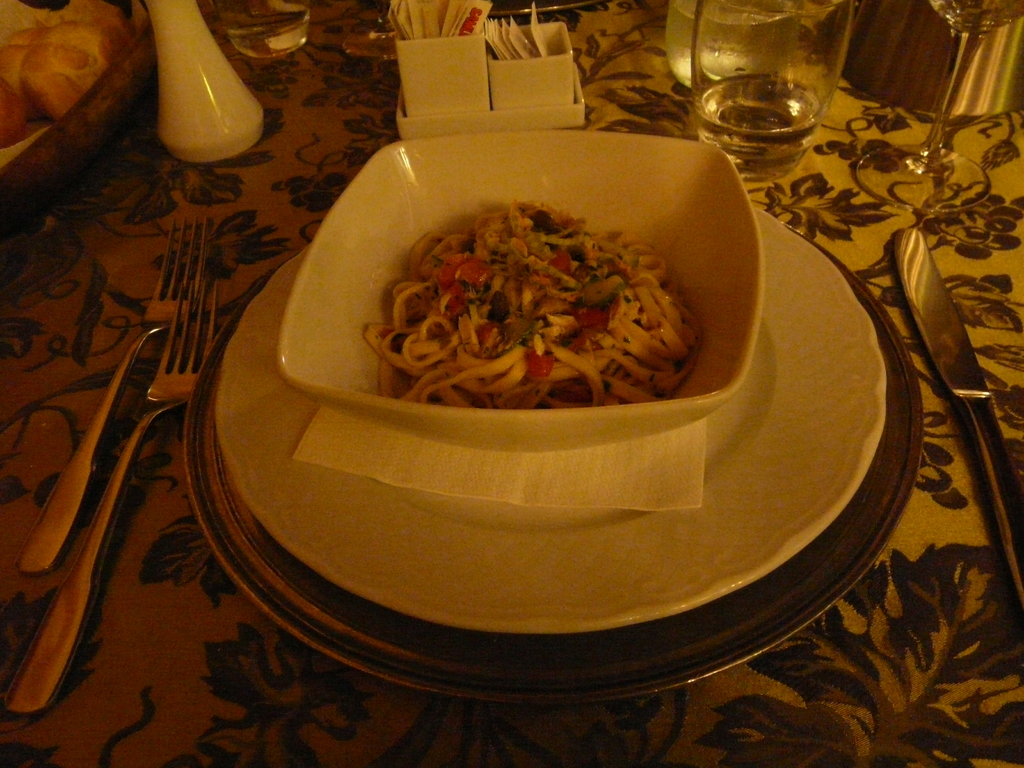pasta: (359, 196, 704, 406)
